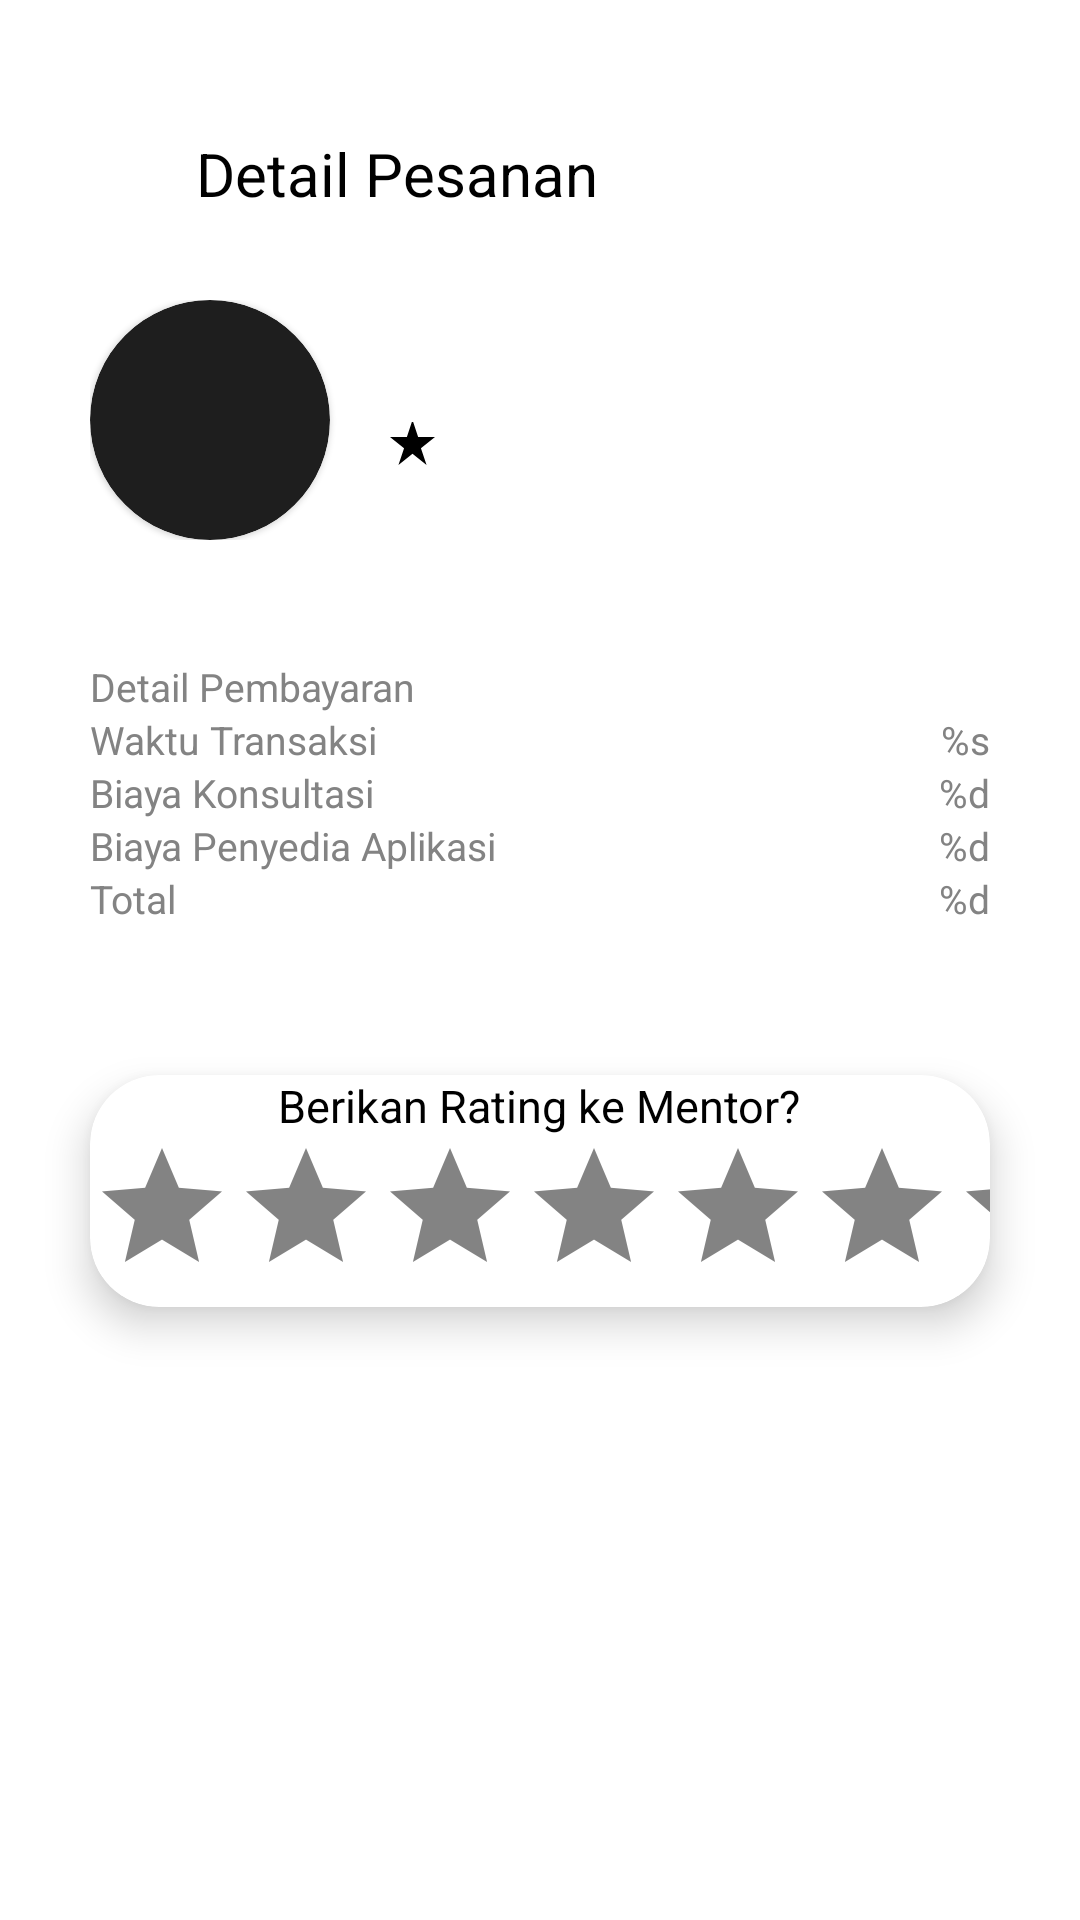

Icons on this 1080 x 1920 Android screen, each with the point to tap as [x,y]:
star: [412,443]
